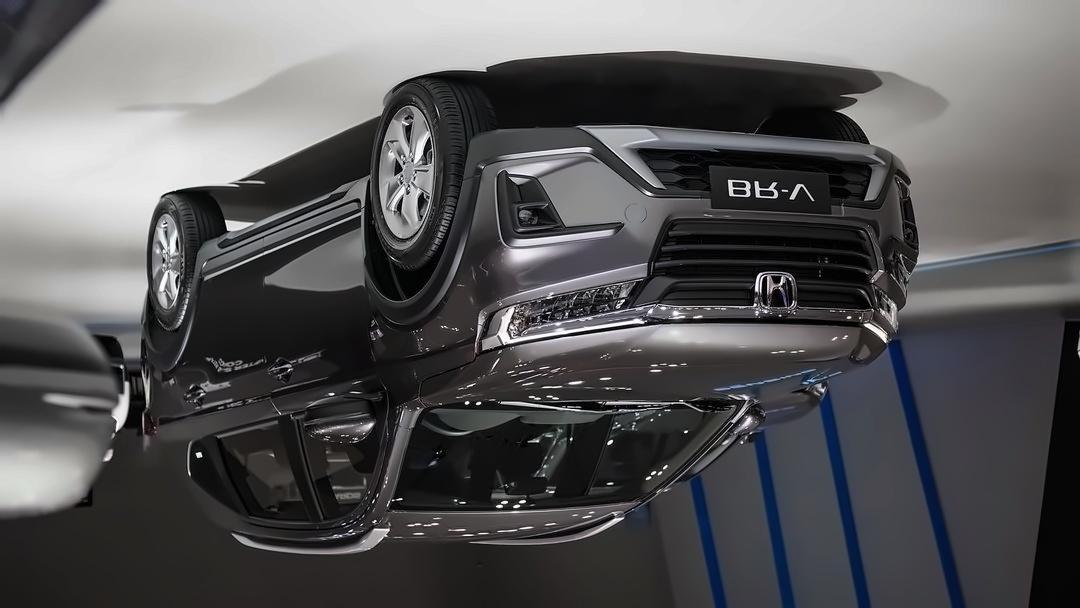Car hood: (417, 320, 888, 411)
Fender - -F-L-: (358, 148, 495, 410)
Fender - -R-L-: (137, 237, 206, 433)
Front bumper: (449, 126, 921, 294)
Headlight - -L-: (474, 273, 653, 360)
Passenger-s door - -F-L-: (259, 173, 398, 549)
Passenger-s door - -R-L-: (185, 190, 328, 561)
Side bumper - -L-: (193, 163, 375, 305)
Side mirror - -L-: (300, 389, 387, 451)
